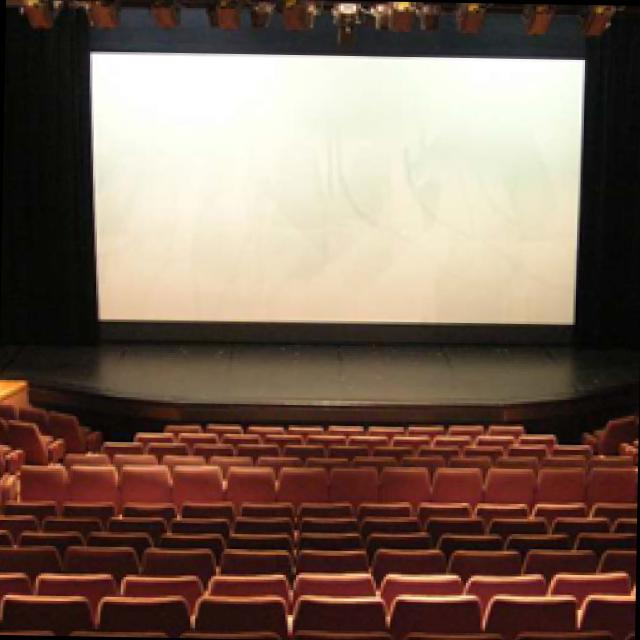curtain crop: (5, 0, 102, 341), (577, 5, 640, 343)
screen occluded: (92, 51, 587, 322)
seats crop: (0, 400, 636, 640)
spotlight crop: (520, 4, 561, 34), (453, 3, 493, 30), (26, 0, 64, 25), (288, 0, 323, 27), (337, 0, 360, 41), (151, 0, 183, 25), (391, 1, 418, 29), (96, 0, 123, 26), (211, 0, 240, 23), (253, 0, 280, 24), (420, 2, 443, 30)
stage: (4, 337, 640, 440)
wall clock: (2, 0, 640, 344), (1, 374, 31, 412)
